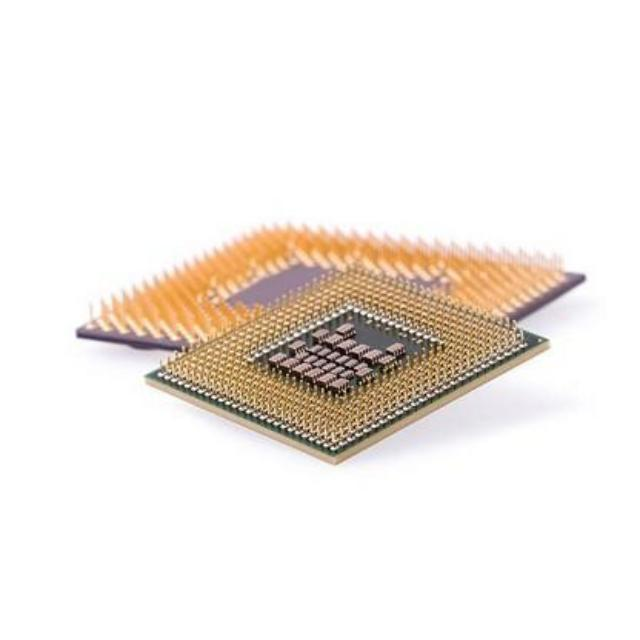CPU: (65, 216, 587, 374), (138, 267, 552, 462)
